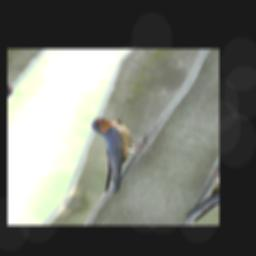Swallow: (51, 110, 156, 207)
